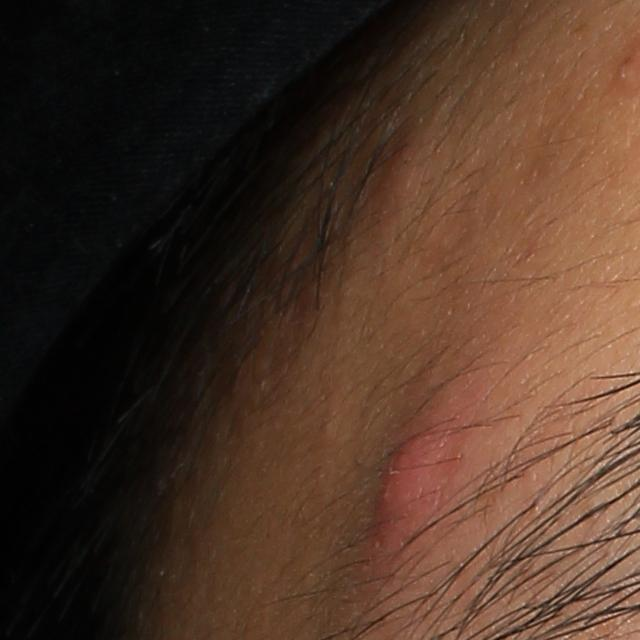nodule: (366, 412, 451, 577)
papule: (371, 131, 432, 217)
